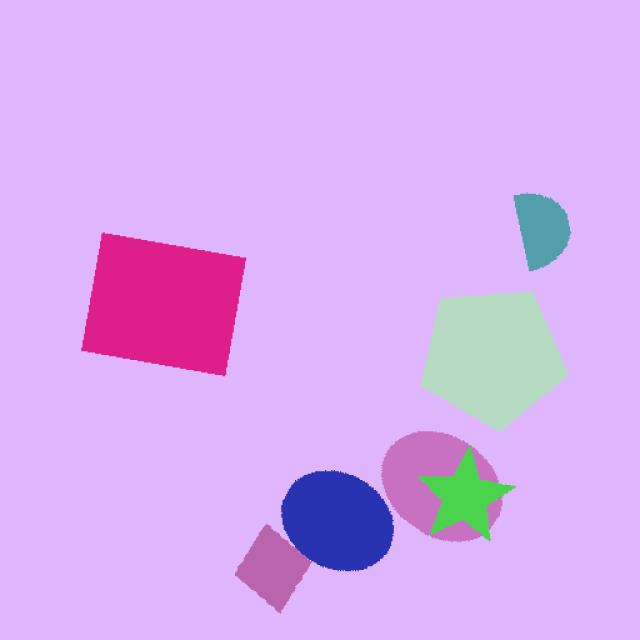Circle: (268, 456, 401, 572)
Kite: (225, 511, 329, 620)
Oval: (371, 428, 524, 543)
Pentagon: (411, 286, 575, 431)
Rectangle: (47, 216, 256, 392)
Semicircle: (504, 190, 572, 275)
Star: (422, 440, 516, 542)
